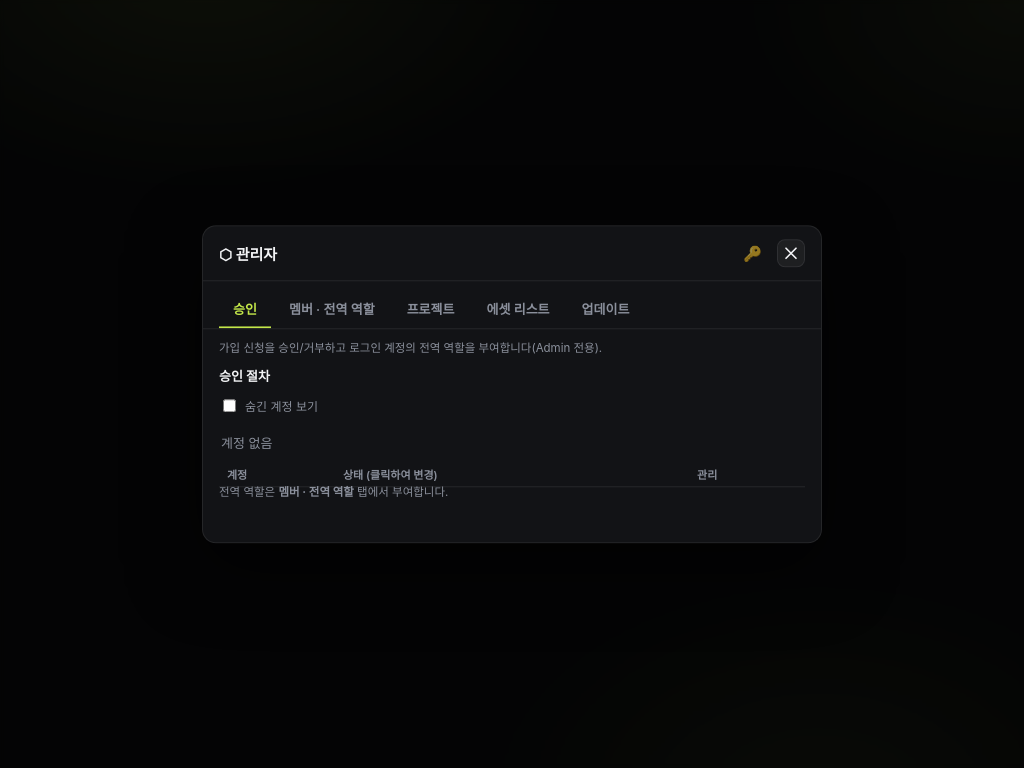
프로젝트 보관·삭제 — 실패하면 알리고 목록은 다시 읽지 않는다(전엔 받는 곳이 없어 눌러도 아무 일도 없는 것처럼 보였다)
Click the button with class "admin-tab" showing "프로젝트" at (431, 310), box [393,291,468,328]
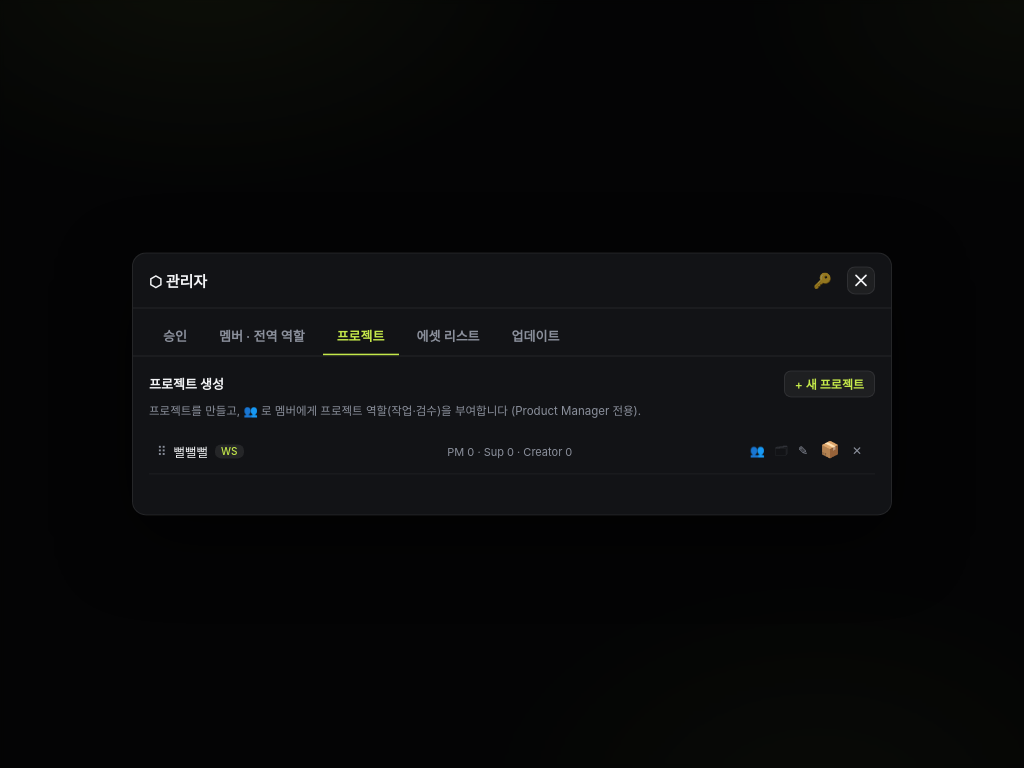
Click the button with class "admin-pact-archive" at (830, 450), box [813,437,847,463]
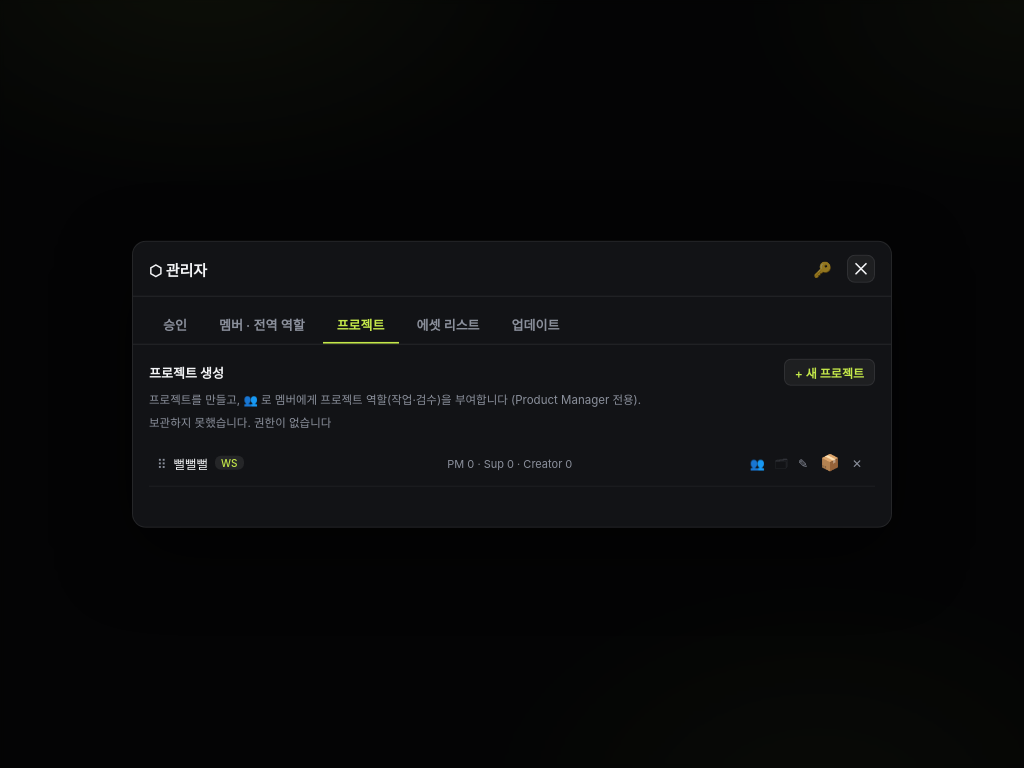
Check: the text with class "admin-note-sub" reads "보관하지 못했습니다. 권한이 없습니다", box [149,416,331,430]
Click the button titled "삭제" at (857, 463), box [847,452,867,473]
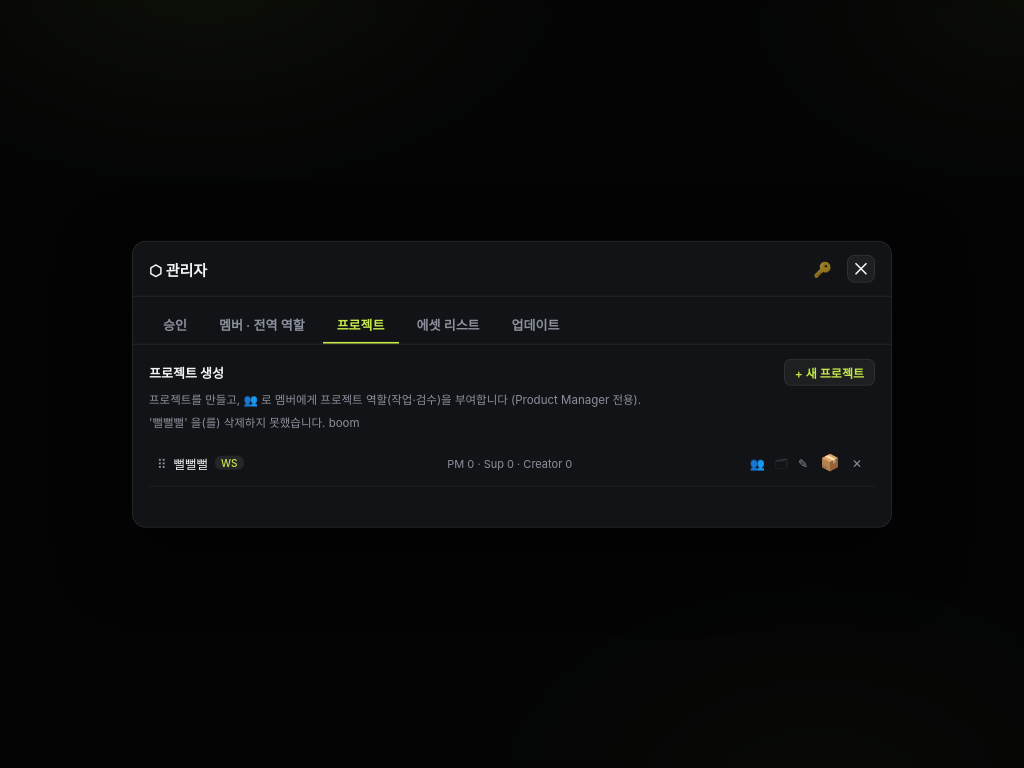
Check: the text "'뻘뻘뻘' 을(를) 삭제하지 못했습니다. boom" is shown, box [149,416,360,430]
